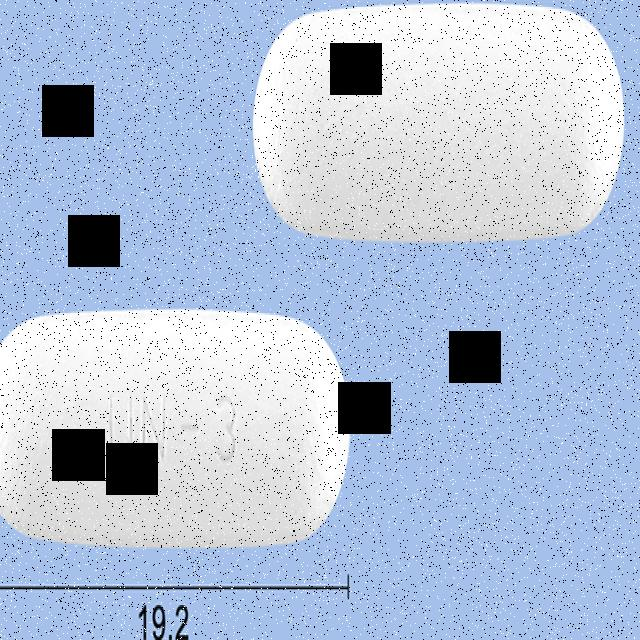Unasyn Tab: (0, 313, 349, 547)
